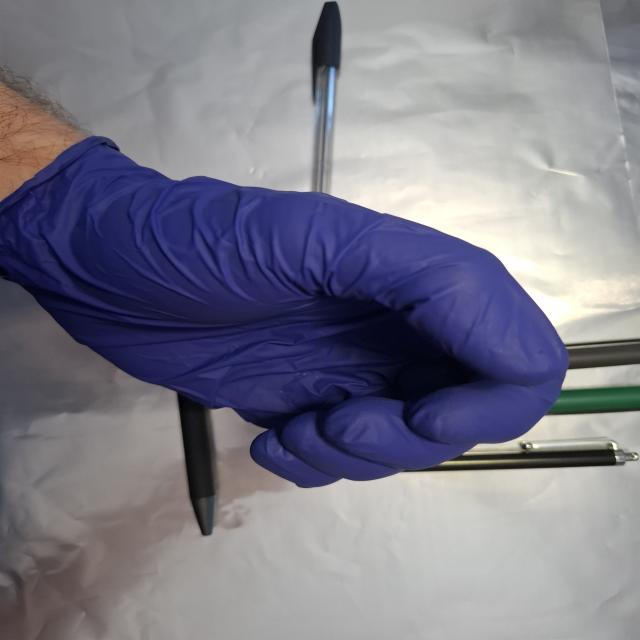glove_on: (3, 135, 573, 491)
